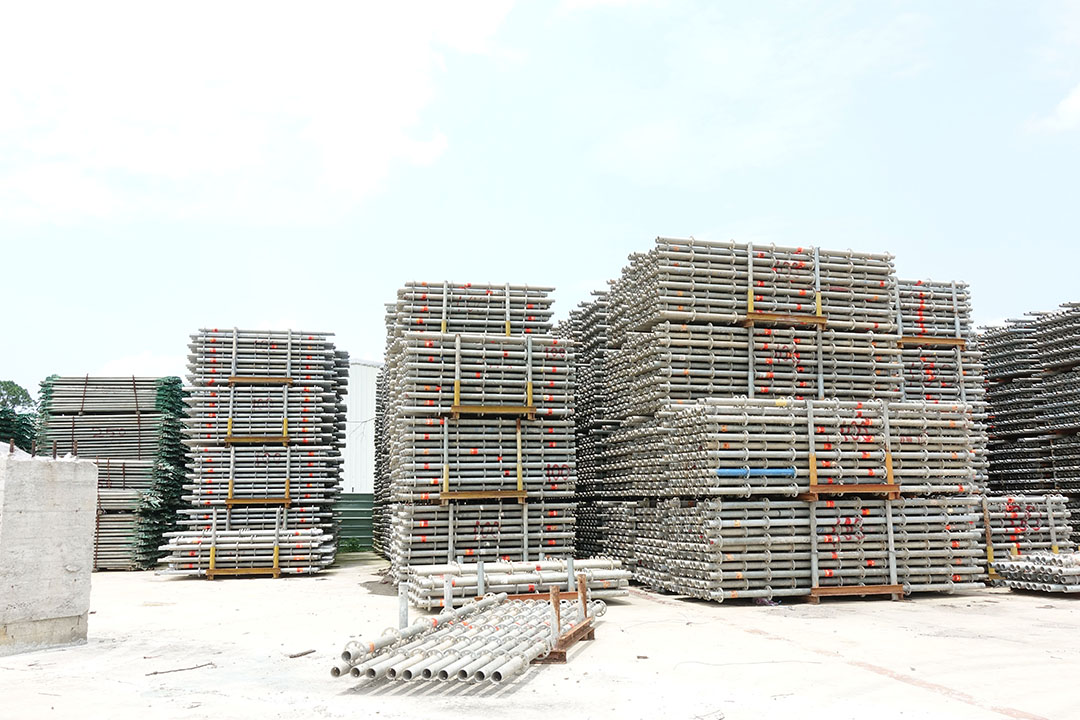building materials: (700, 397, 980, 501), (706, 499, 988, 602), (653, 233, 899, 332), (658, 322, 904, 400), (401, 418, 579, 506), (404, 333, 577, 420), (400, 505, 577, 590), (183, 447, 329, 508), (191, 325, 336, 386), (403, 279, 558, 336), (183, 386, 323, 447)
